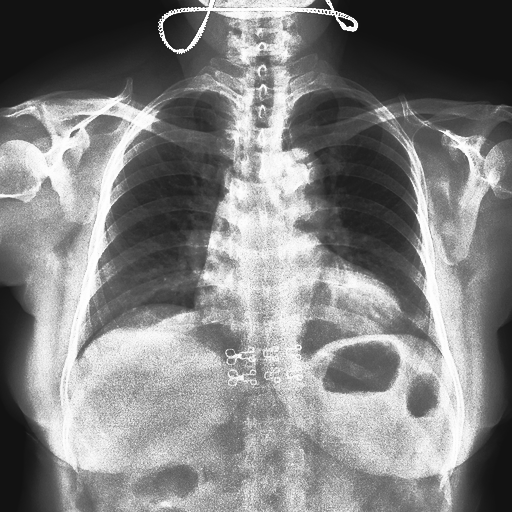Consolidation: (263, 144, 324, 206)
Nodule/Mass: (192, 285, 402, 333), (273, 147, 329, 220)
